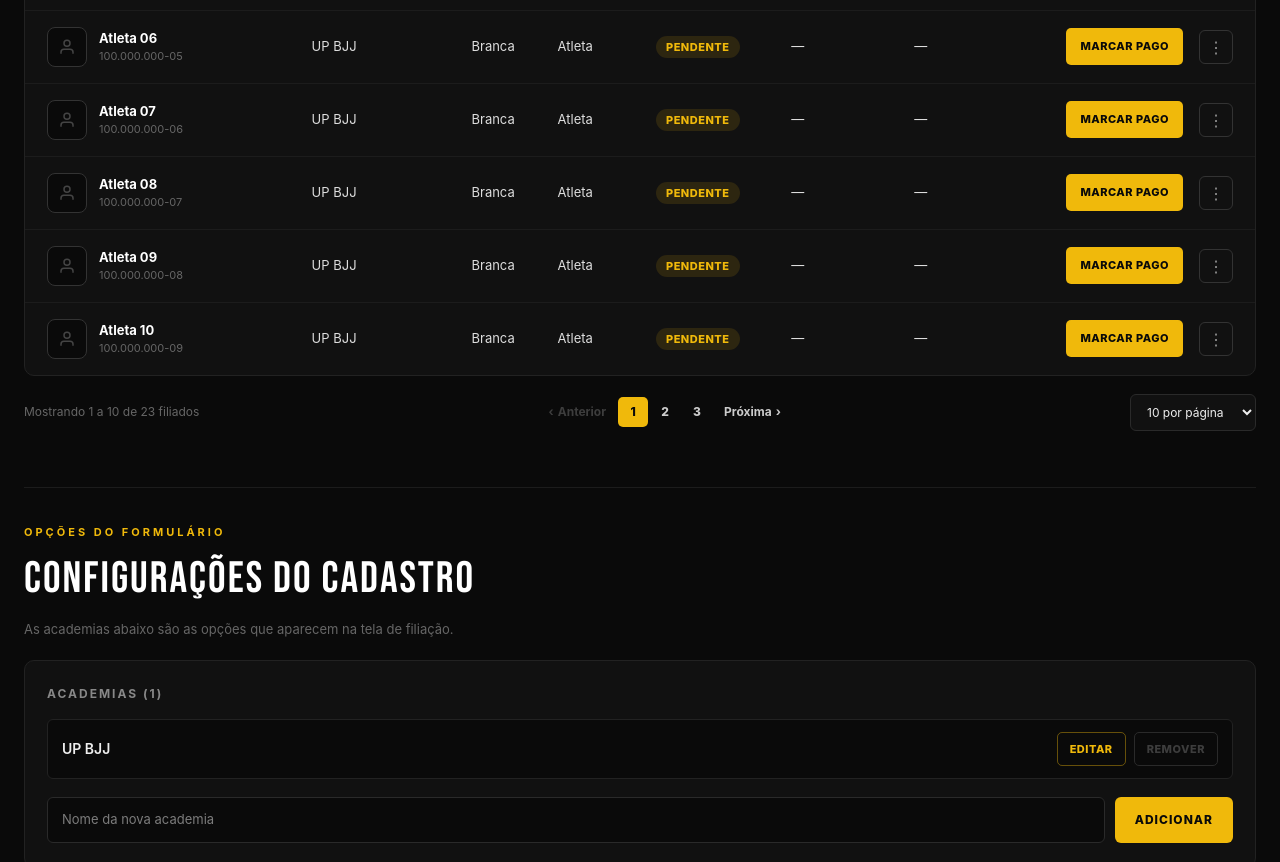
Test: Admin — paginação (desktop) › troca a quantidade por página e volta para a primeira
(page scrolled)
Click the button with aria-label "próxima página" at (752, 412), box [714,395,791,429]
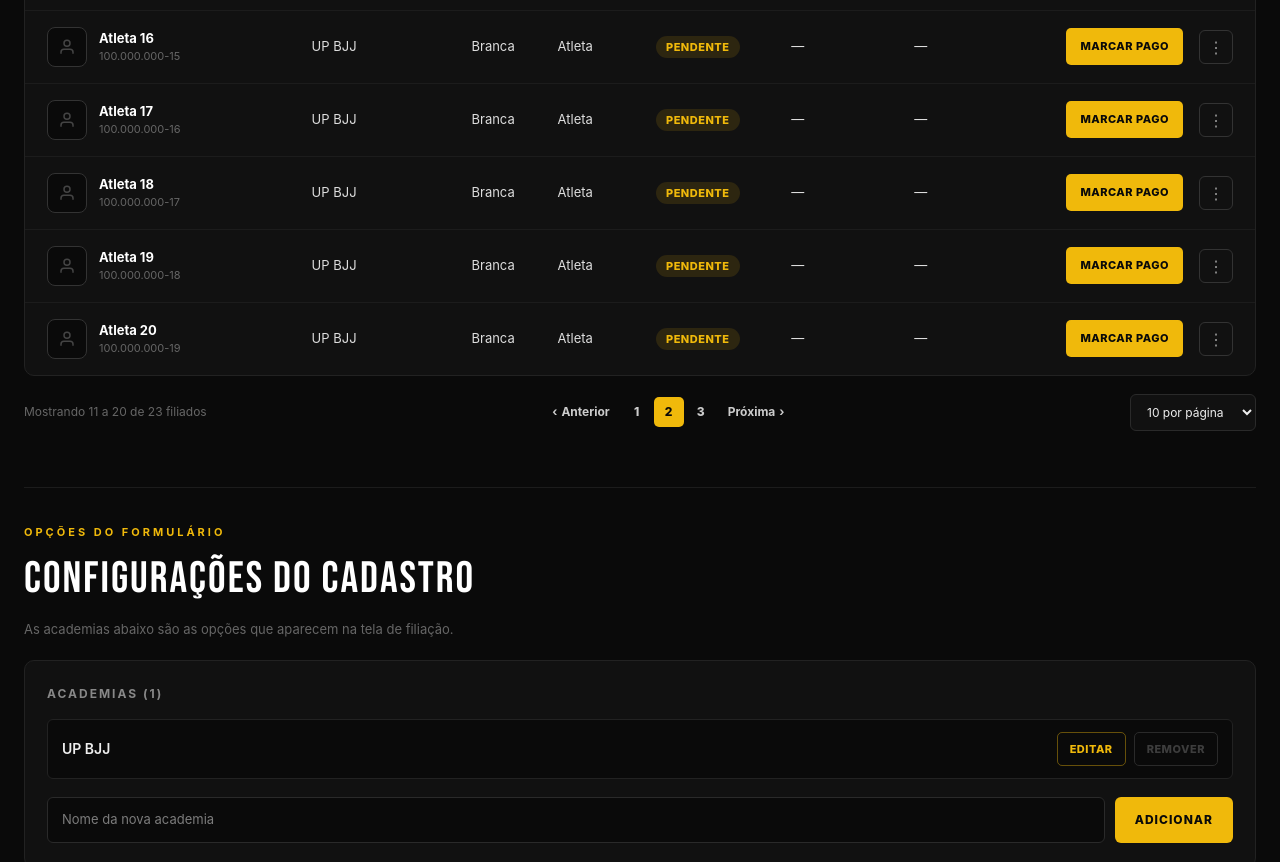
Select "25 por página" in the dropdown named "Filiados por página" at (1193, 412), box [1130,394,1256,430]
(page scrolled)
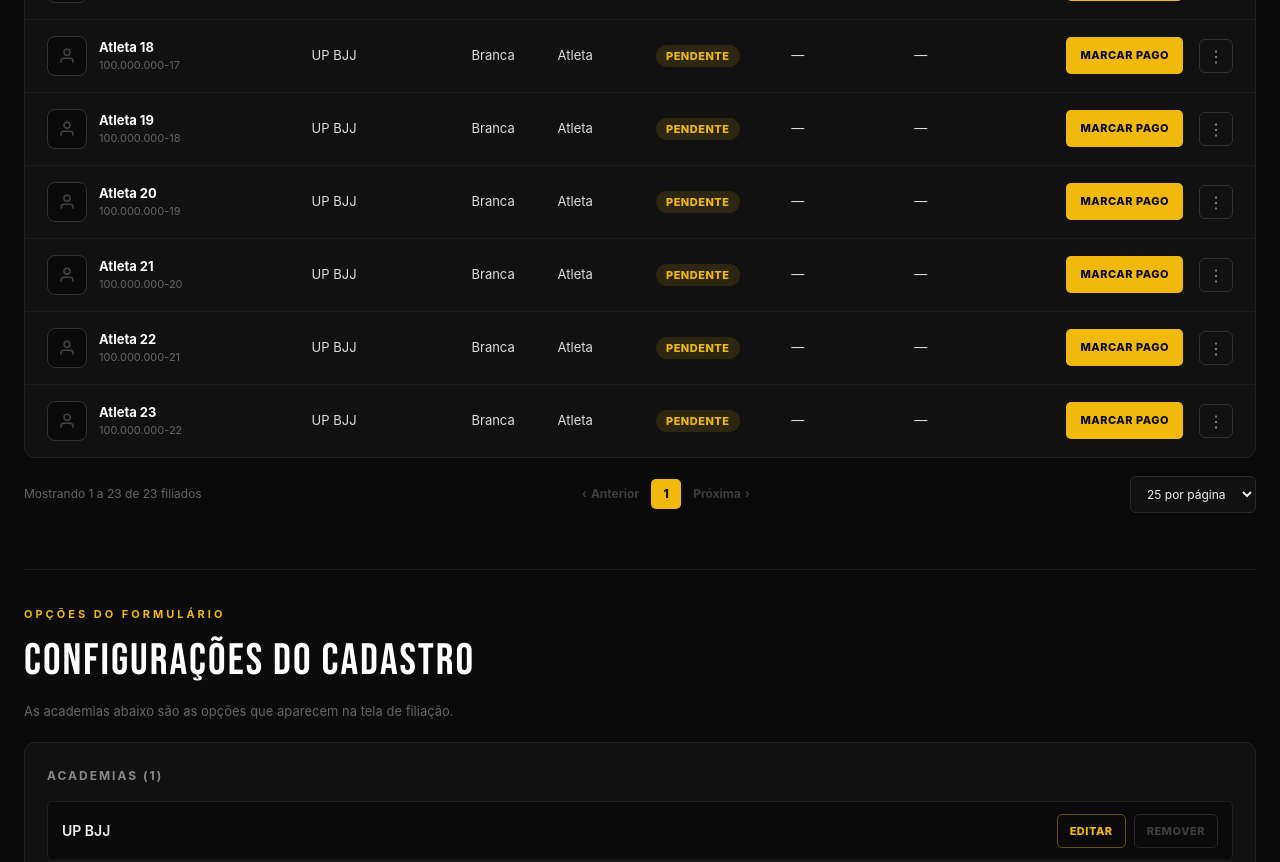
Check: the text "Mostrando 1 a 23 de 23 filiados" is shown, box [24,485,202,503]
Check: the text "Atleta 23" is shown, box [99,404,156,420]
